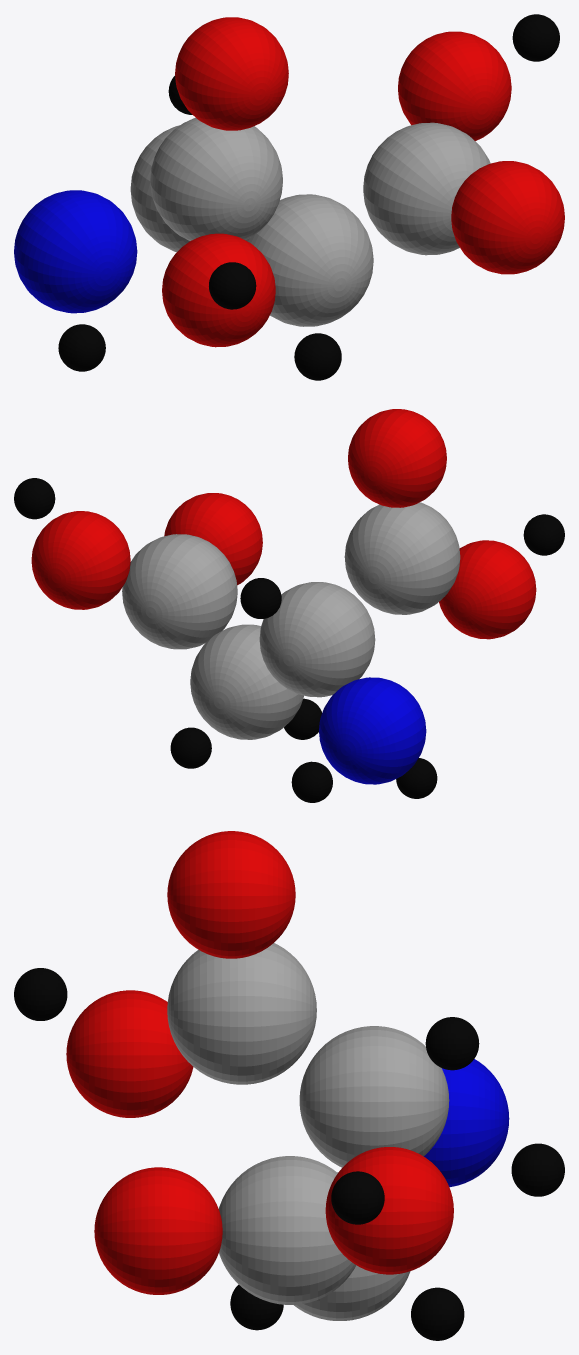
Rendered from Aspartic Acid.glb.
3 renders of one model, top to bottom at view 1: azimuth 30°, elevation 25°; view 2: azimuth 150°, elevation 25°; view 3: azimuth 270°, elevation 25°, orthographic. The views are drawn at different scales.
Visible parts, largest first — view 1: world; view 2: world; view 3: world.
Part boxes in pixels (box(x1,y1,x2,y2)): world: box(14, 14, 564, 380); world: box(14, 409, 564, 802); world: box(14, 831, 564, 1340).
Size of the model in its own units: 6.06 by 4.51 by 5.15.
